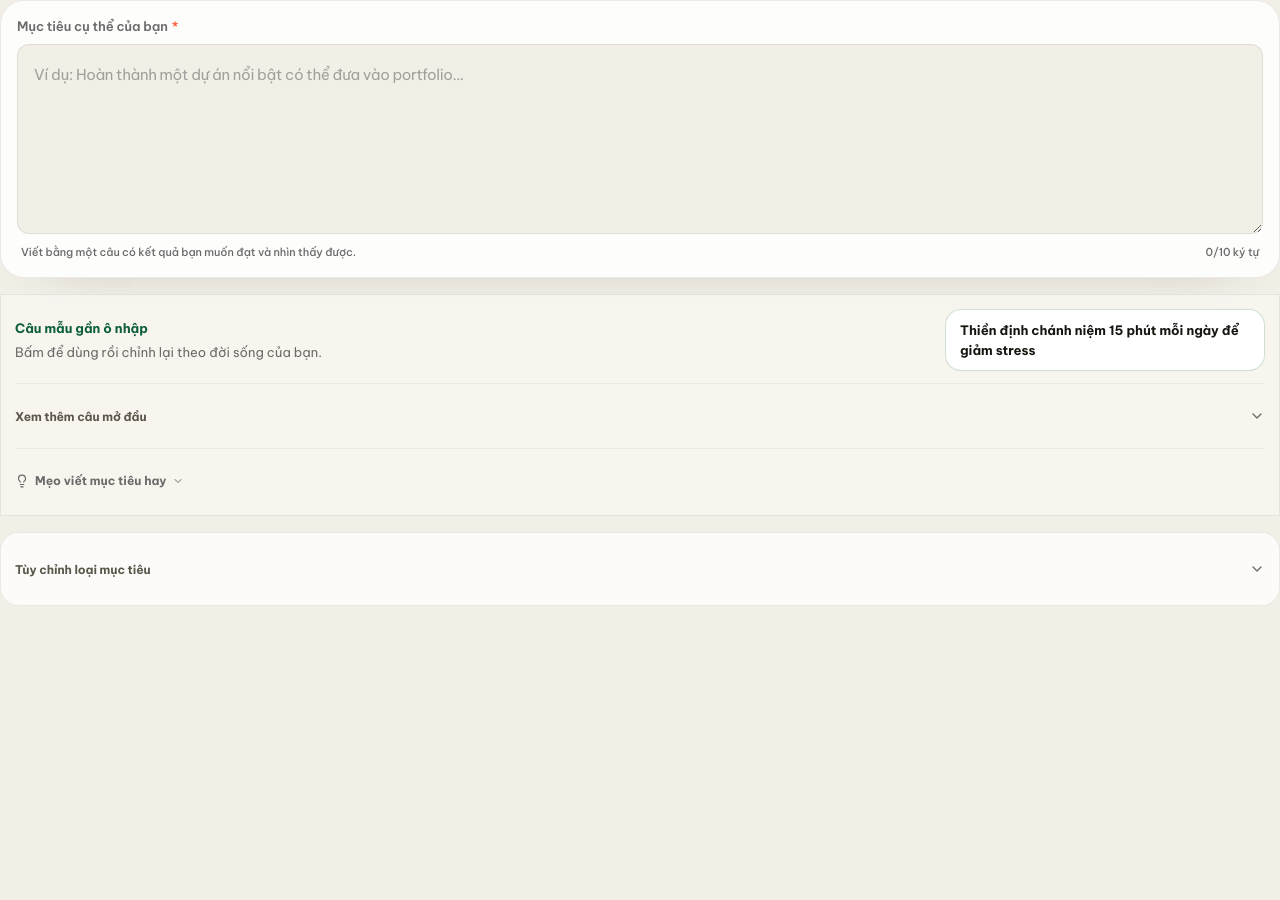
it: SpecificStep — inline validation + giữ dữ liệu › gỡ lỗi ngay khi người dùng sửa field thành hợp lệ, trong ≤ 500ms (Req 13.3)
Click the text box labelled "Mục tiêu cụ thể của bạn*" at (640, 139), box x1=17 y1=44 x2=1263 y2=234
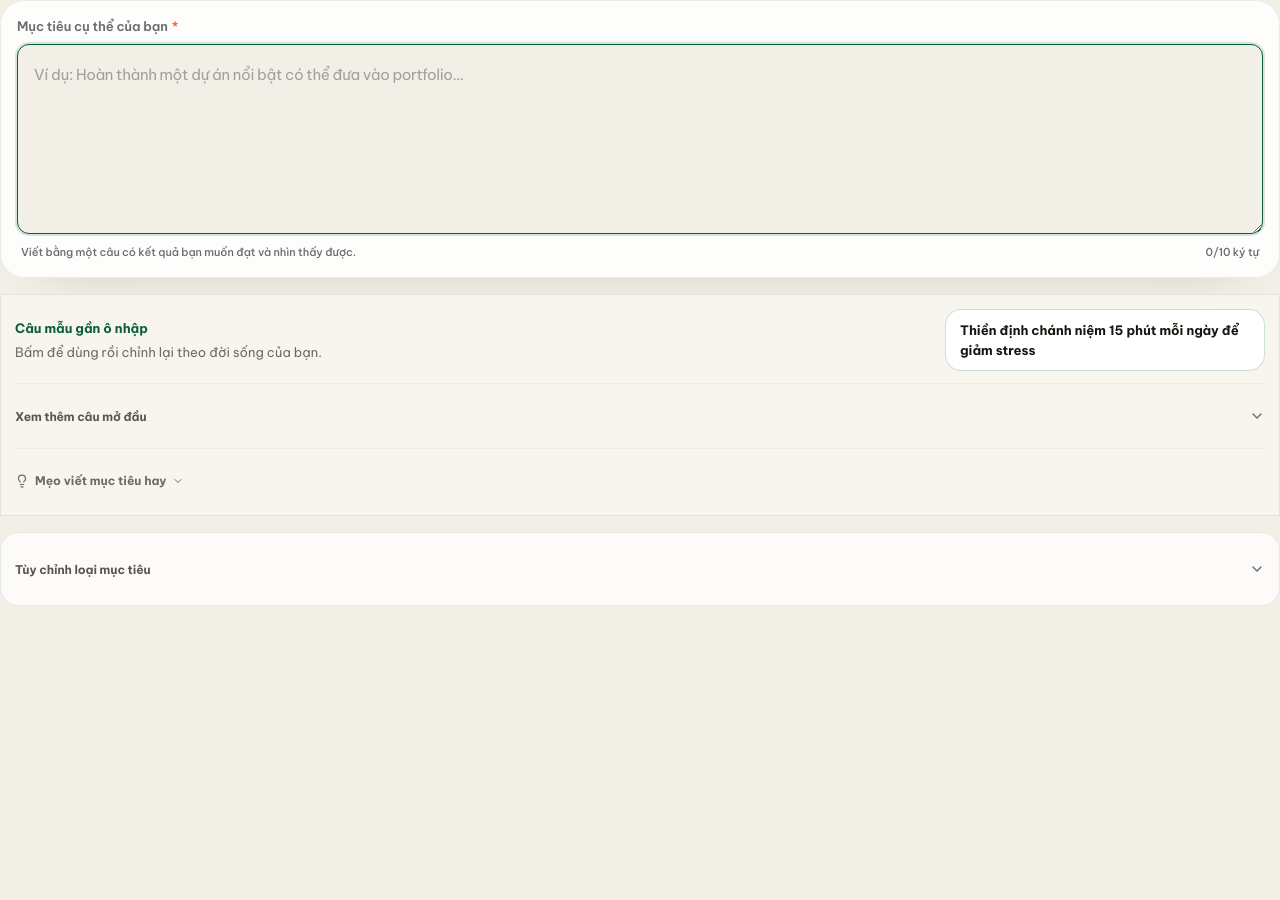
Press Tab
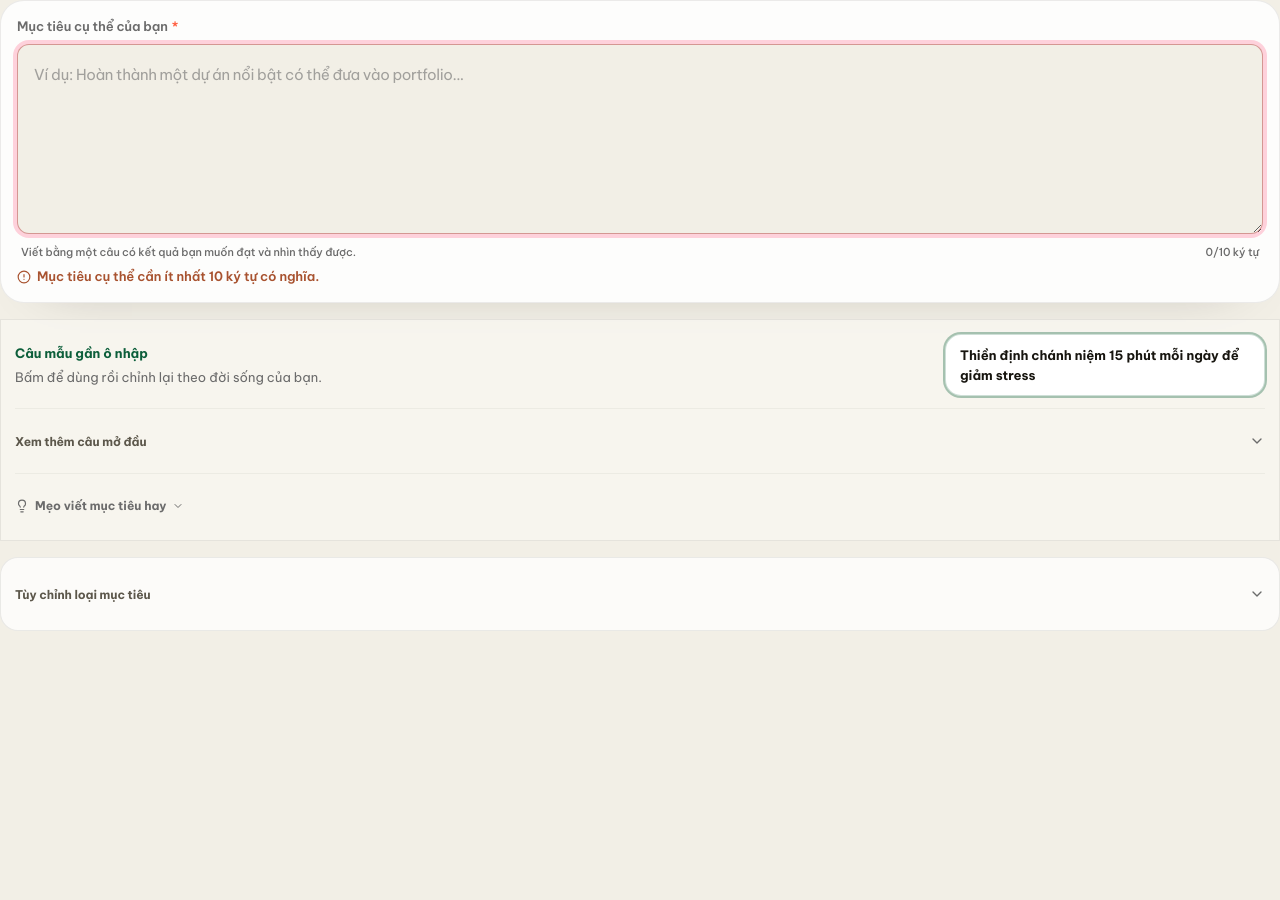
Now the text "Mục tiêu cụ thể cần ít nhất 10 ký tự có nghĩa." is shown, box x1=37 y1=267 x2=319 y2=286
// Sửa thành giá trị hợp lệ (≥ 10 ký tự có nghĩa) → lỗi gỡ đồng bộ.
Type "Hoàn thành khóa học React nâng cao trong 12 tuần" into the text box labelled "Mục tiêu cụ thể của bạn*" at (640, 139), box x1=17 y1=44 x2=1263 y2=234
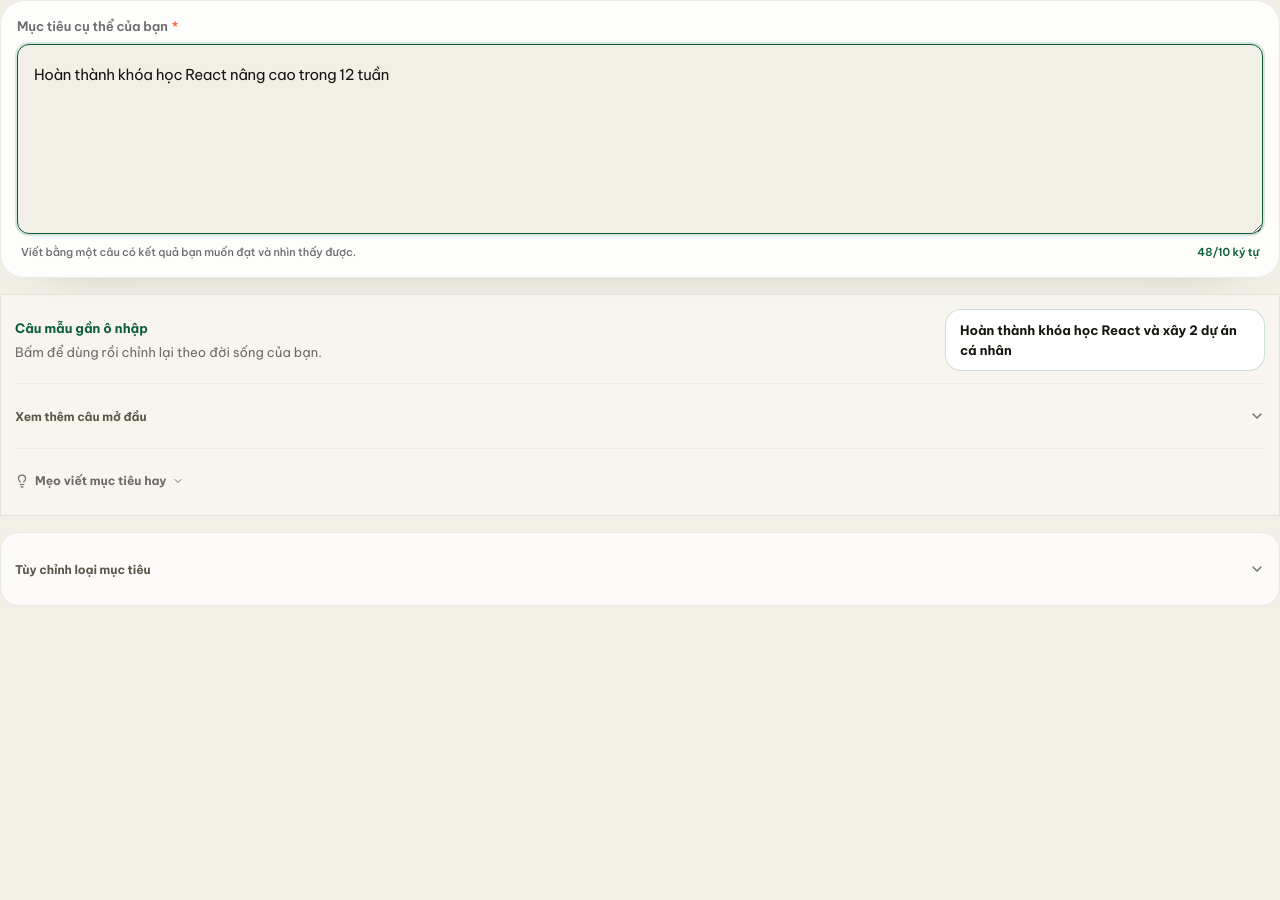
Now the text "Mục tiêu cụ thể cần ít nhất 10 ký tự có nghĩa." is gone
